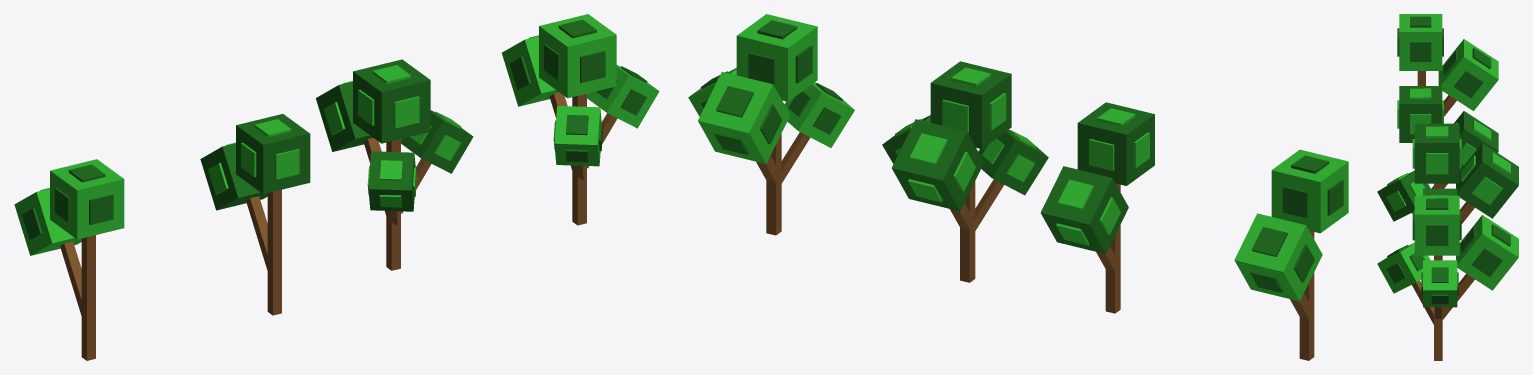
Rendered from Bäume.fbx.
The picture shows the model from 3 angles, left to right: view 1: azimuth 30°, elevation 25°; view 2: azimuth 150°, elevation 25°; view 3: azimuth 270°, elevation 25°; orthographic projection. The views are drawn at different scales.
Visible parts, largest first — view 1: Cube.205, Cube.000, Cube.214, Cube.204; view 2: Cube.205, Cube.000, Cube.204, Cube.214; view 3: Cube.000, Cube.205, Cube.204, Cube.214.
Part boxes in pixels (bbox=[...]): Cube.205: bbox=[315, 59, 473, 270]; Cube.000: bbox=[502, 14, 659, 225]; Cube.214: bbox=[200, 114, 310, 315]; Cube.204: bbox=[14, 159, 124, 360]; Cube.205: bbox=[882, 61, 1048, 282]; Cube.000: bbox=[688, 14, 854, 235]; Cube.204: bbox=[1234, 149, 1348, 360]; Cube.214: bbox=[1040, 102, 1154, 313]; Cube.000: bbox=[1377, 195, 1518, 360]; Cube.205: bbox=[1377, 123, 1518, 223]; Cube.204: bbox=[1397, 14, 1498, 116]; Cube.214: bbox=[1397, 86, 1498, 188].
Size of the model in its own units: 709 by 228 by 183.
